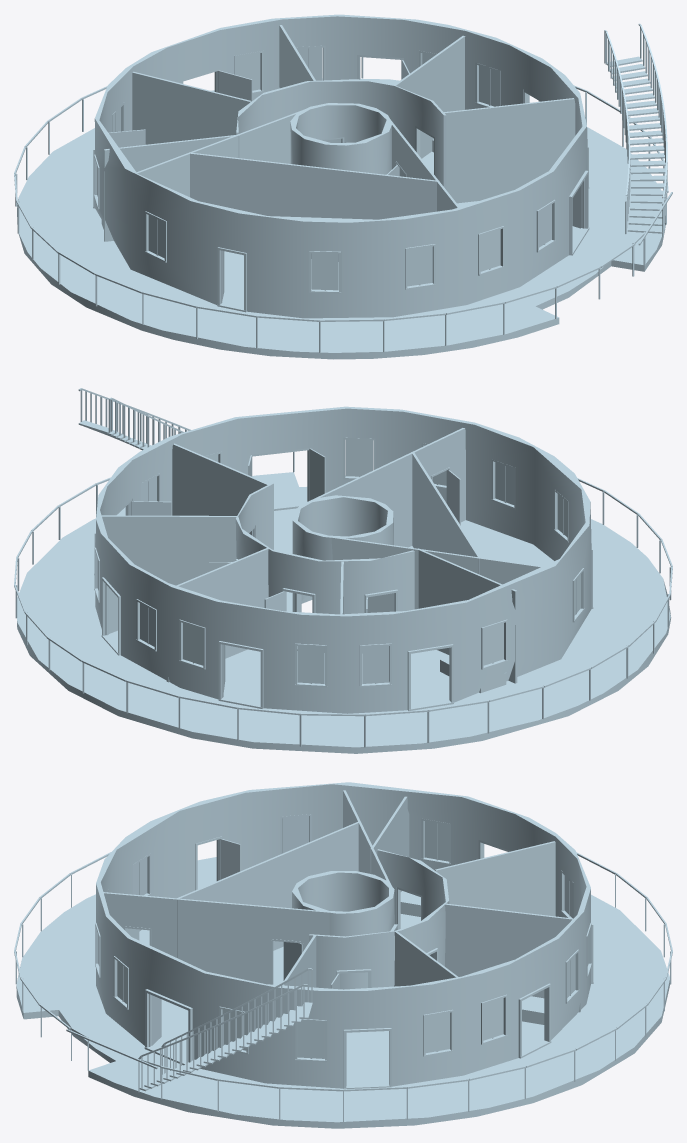
File: tower_floor_mid_lod2.glb
3 views of the same model, one above another, from view 1: azimuth 30°, elevation 25°; view 2: azimuth 150°, elevation 25°; view 3: azimuth 270°, elevation 25° (orthographic).
Parts seen in each view (by area): view 1: Facade 1, Slab 1, Radial demise wall (×5), Bedroom-bath wall, Corridor wall 1, Elevator shell 1, Window glass (×7), Core tangent wall, Door leaf (×2), Living-bedroom separator; view 2: Facade 1, Slab 1, Radial demise wall (×4), Corridor wall 1, Window glass (×7), Elevator shell 1, Living-bedroom separator (×3), Core tangent wall, Bedroom-bath wall, Door leaf (×2), Main door leaf, Separator door leaf (bed); view 3: Facade 1, Slab 1, Radial demise wall (×5), Living-bedroom separator (×4), Corridor wall 1, Bedroom-bath wall, Elevator shell 1, Window glass (×5), Core tangent wall, Door leaf, Main door leaf, Bed (single).
Boxes of the visible parts, <box> form: Facade 1: <box>94,14,587,318</box>; Slab 1: <box>17,78,665,359</box>; Radial demise wall (×5): <box>104,25,575,241</box>; Bedroom-bath wall: <box>188,152,438,261</box>; Corridor wall 1: <box>236,79,446,189</box>; Elevator shell 1: <box>290,103,392,174</box>; Window glass (×7): <box>148,47,500,290</box>; Core tangent wall: <box>137,110,302,196</box>; Door leaf (×2): <box>108,70,252,147</box>; Living-bedroom separator: <box>406,142,446,211</box>; Facade 1: <box>95,406,591,713</box>; Slab 1: <box>17,472,671,753</box>; Radial demise wall (×4): <box>101,443,517,683</box>; Corridor wall 1: <box>235,482,414,653</box>; Window glass (×7): <box>140,439,514,683</box>; Elevator shell 1: <box>292,495,393,612</box>; Living-bedroom separator (×3): <box>348,428,465,547</box>; Core tangent wall: <box>331,537,542,612</box>; Bedroom-bath wall: <box>411,452,480,573</box>; Door leaf (×2): <box>105,501,171,634</box>; Main door leaf: <box>307,448,325,501</box>; Separator door leaf (bed): <box>448,470,460,525</box>; Facade 1: <box>96,782,590,1088</box>; Slab 1: <box>16,857,670,1128</box>; Radial demise wall (×5): <box>277,796,580,1084</box>; Living-bedroom separator (×4): <box>123,894,329,984</box>; Corridor wall 1: <box>309,849,449,988</box>; Bedroom-bath wall: <box>176,821,360,957</box>; Elevator shell 1: <box>292,871,394,989</box>; Window glass (×5): <box>282,816,503,1058</box>; Core tangent wall: <box>343,790,391,885</box>; Door leaf: <box>218,839,240,880</box>; Main door leaf: <box>149,994,161,1046</box>; Bed (single): <box>522,996,544,1024</box>.
Bounding box in the file's own units: 20.15 × 4.84 × 20.15.
